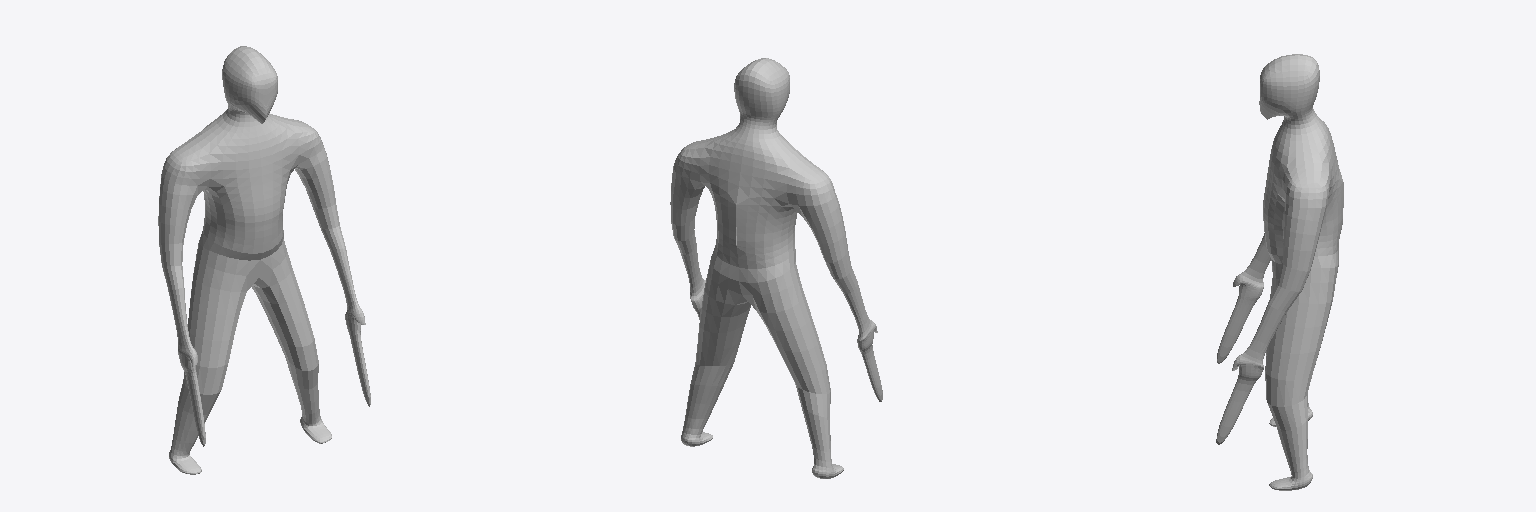
Rendered from finalModel3.obj.
3 views of the same model, side by side, from view 1: azimuth 30°, elevation 25°; view 2: azimuth 150°, elevation 25°; view 3: azimuth 270°, elevation 25° (orthographic).
Visible parts, largest first — view 1: Cube, Cube.001; view 2: Cube; view 3: Cube, Cube.001.
Boxes of the visible parts, box(x1,y1,x2,y2) form: Cube: box(158, 46, 370, 474); Cube.001: box(158, 131, 344, 411); Cube: box(670, 58, 882, 478); Cube: box(1216, 54, 1343, 490); Cube.001: box(1268, 180, 1311, 430).
Bounding box in the file's own units: 1.98 × 4.29 × 1.23.